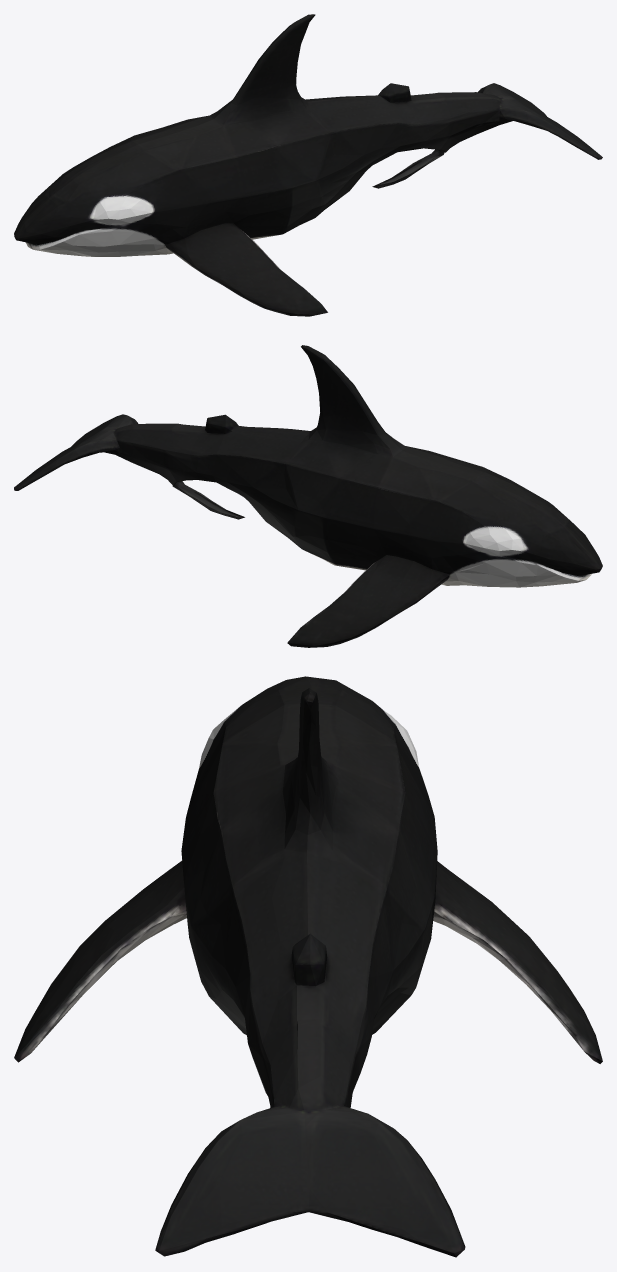
Rendered from orca_3d.glb.
The picture shows the model from 3 angles, top to bottom: view 1: azimuth 30°, elevation 25°; view 2: azimuth 150°, elevation 25°; view 3: azimuth 270°, elevation 25°; orthographic projection. The views are drawn at different scales.
Visible parts, largest first — view 1: world; view 2: world; view 3: world.
Part boxes in pixels (box(x1,y1,x2,y2)): world: box(14, 14, 602, 316); world: box(14, 345, 602, 647); world: box(14, 676, 602, 1257).
Size of the model in its own units: 1 by 0.3984 by 0.4986.
1 material, 1 textured.
